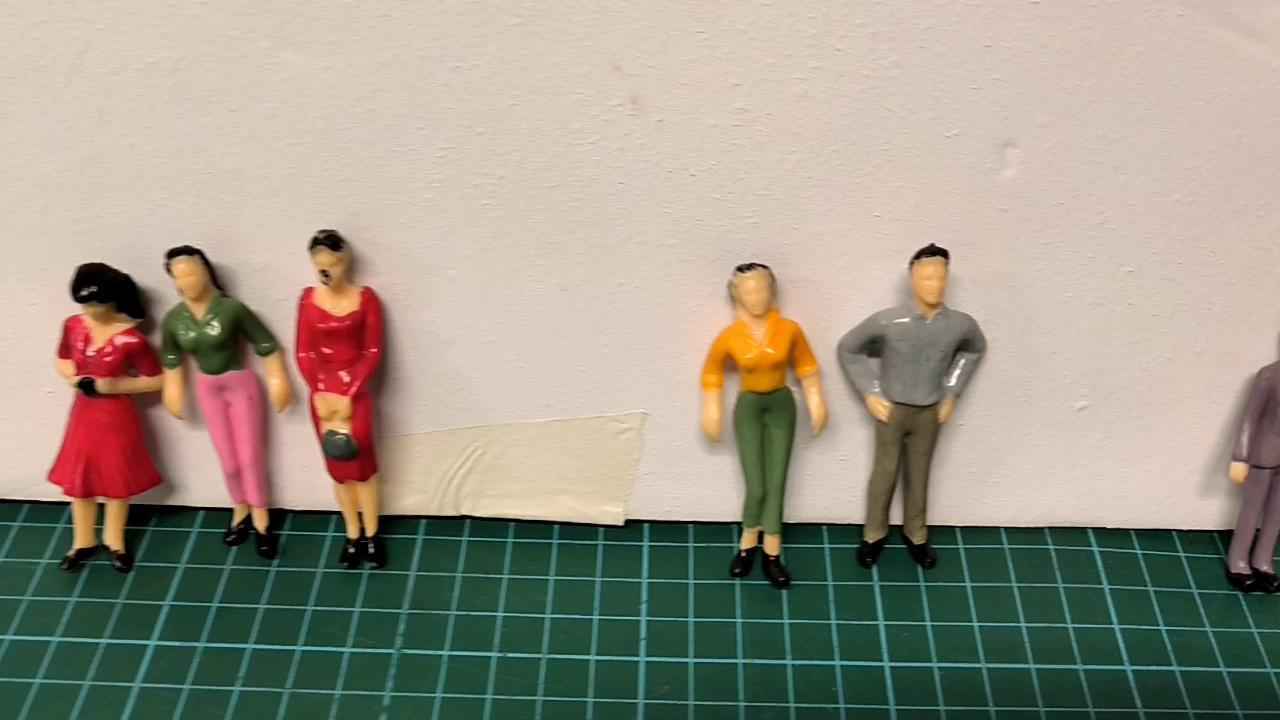human: (835, 239, 1002, 579), (693, 260, 837, 596), (156, 235, 290, 563), (40, 245, 168, 578), (288, 220, 408, 571)
